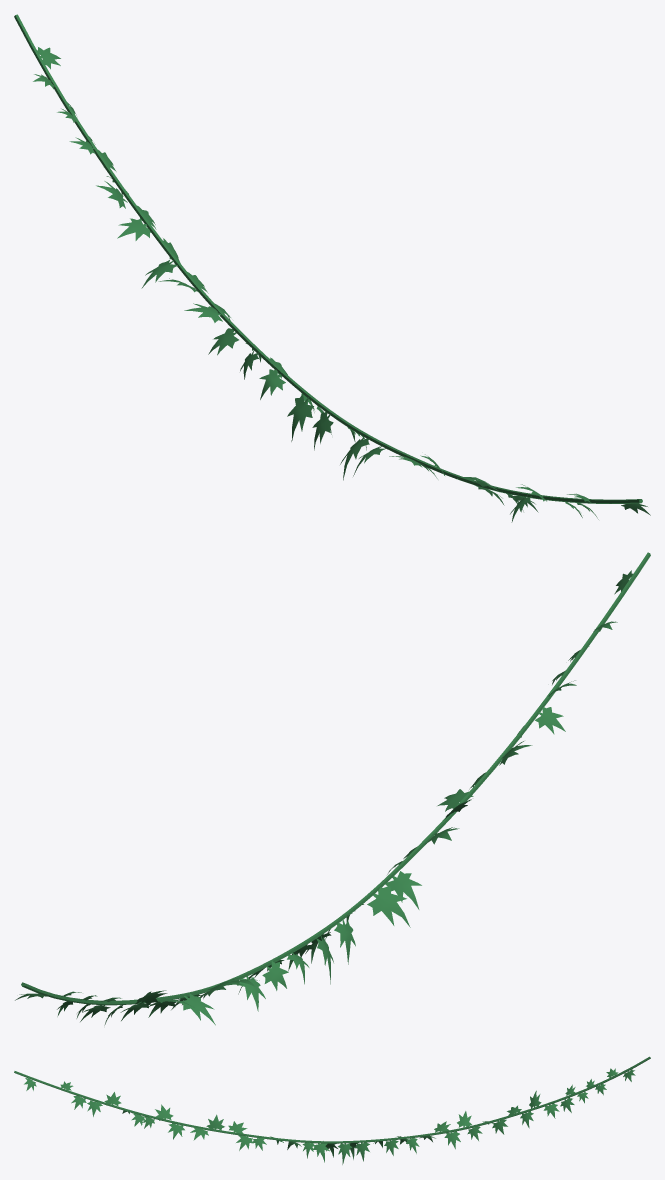
The model's file is vine_hori_A_alangium.fbx.
3 views of the same model, one above another, from view 1: azimuth 30°, elevation 25°; view 2: azimuth 150°, elevation 25°; view 3: azimuth 270°, elevation 25° (orthographic). The views are drawn at different scales.
Visible parts, largest first — view 1: vine_hori_A_alangium_root; view 2: vine_hori_A_alangium_root, vine_alangium_A_leaf_B249; view 3: vine_hori_A_alangium_root.
Part boxes in pixels (box(x1,y1,x2,y2)): vine_hori_A_alangium_root: box(14, 14, 642, 503); vine_hori_A_alangium_root: box(21, 552, 650, 1005); vine_alangium_A_leaf_B249: box(367, 886, 410, 927); vine_hori_A_alangium_root: box(14, 1056, 650, 1143).
Size of the model in its own units: 55.55 by 163 by 877.
